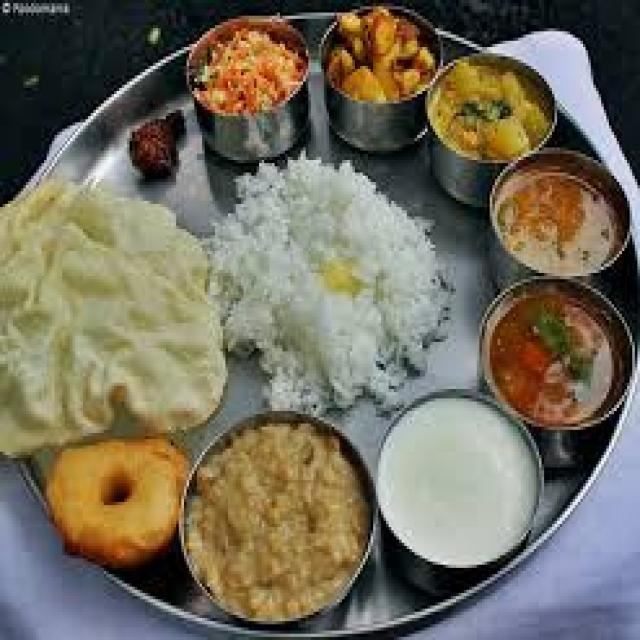curd: (373, 396, 545, 577)
dal: (35, 428, 187, 579), (428, 47, 557, 169)
papad: (0, 183, 229, 432)
pickle: (118, 103, 194, 188)
rice: (205, 153, 439, 410)
sambar-rasam: (477, 274, 625, 434)
veg-fry: (32, 424, 191, 582), (177, 3, 315, 152), (486, 164, 629, 281)
